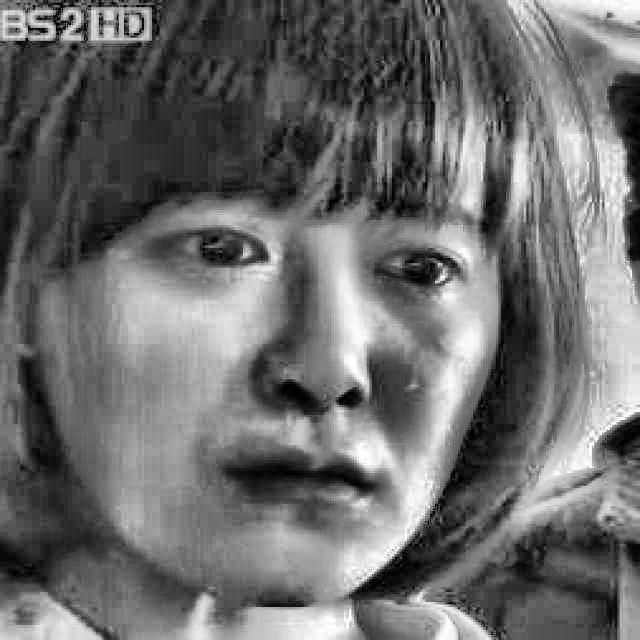sad: (13, 56, 466, 587)
